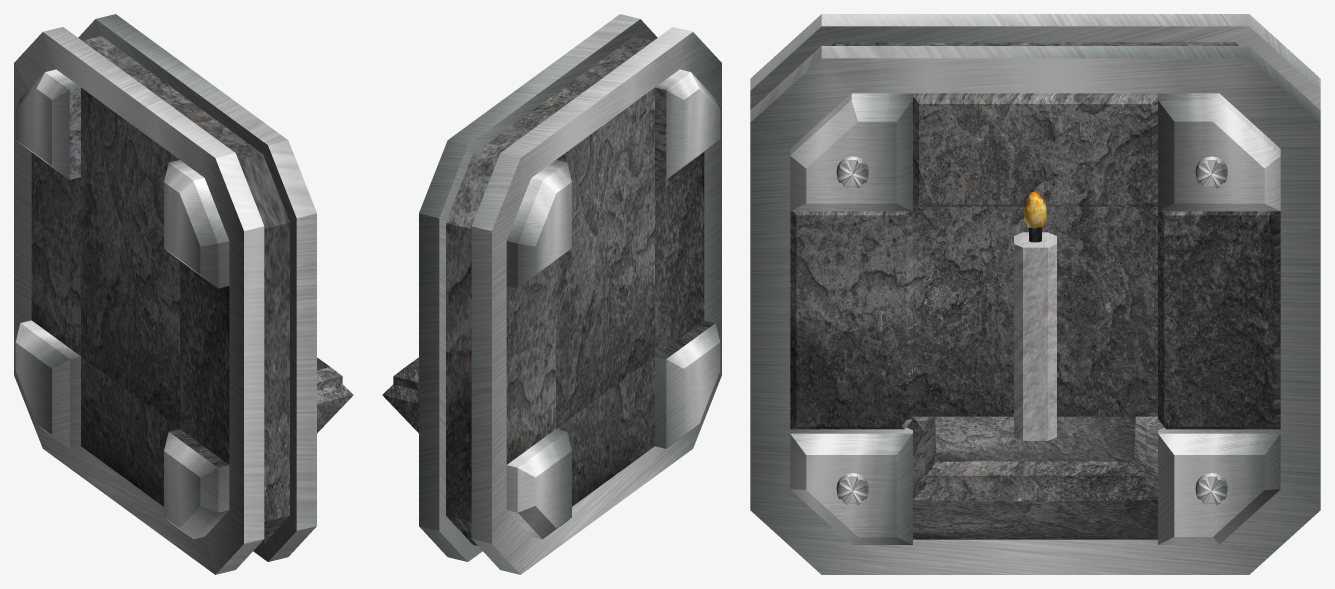
File: WallCandle.fbx
The picture shows the model from 3 angles, left to right: view 1: azimuth 30°, elevation 25°; view 2: azimuth 150°, elevation 25°; view 3: azimuth 270°, elevation 25°; orthographic projection. The views are drawn at different scales.
Parts seen in each view (by area): view 1: WallCandleShapeShape; view 2: WallCandleShapeShape; view 3: WallCandleShapeShape.
Boxes of the visible parts, x1,y1,x2,y2 form: WallCandleShapeShape: [14, 14, 353, 574]; WallCandleShapeShape: [382, 14, 721, 574]; WallCandleShapeShape: [750, 14, 1320, 574].
Size of the model in its own units: 0.573 by 1.16 by 1.16.
Materials: 6 (5 with a texture image).
